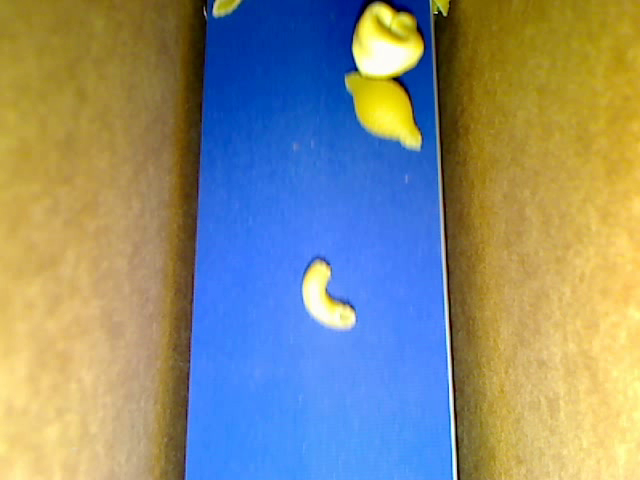elbow: (300, 257, 357, 331)
shell: (342, 71, 422, 151)
tortellini: (352, 1, 424, 80)
